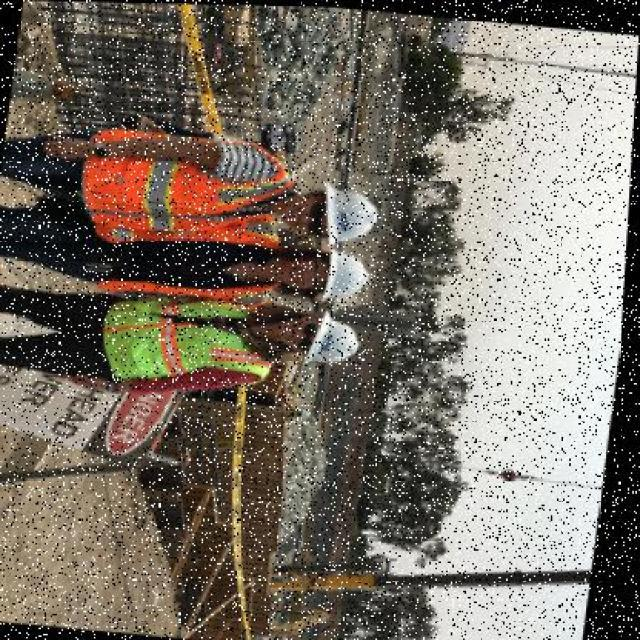helmet: (308, 172, 394, 246), (300, 242, 385, 312), (297, 309, 375, 373)
vest: (83, 126, 295, 245), (94, 206, 280, 317), (94, 291, 284, 399)
